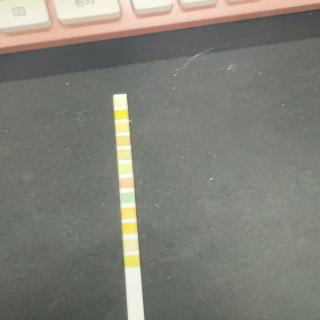mark: (124, 239, 138, 251), (122, 223, 137, 234), (122, 208, 136, 219), (119, 178, 134, 188), (125, 256, 139, 266), (121, 193, 135, 203), (117, 150, 131, 160), (119, 164, 132, 174), (117, 136, 130, 146), (116, 122, 128, 132), (115, 110, 127, 119), (114, 96, 126, 105)
